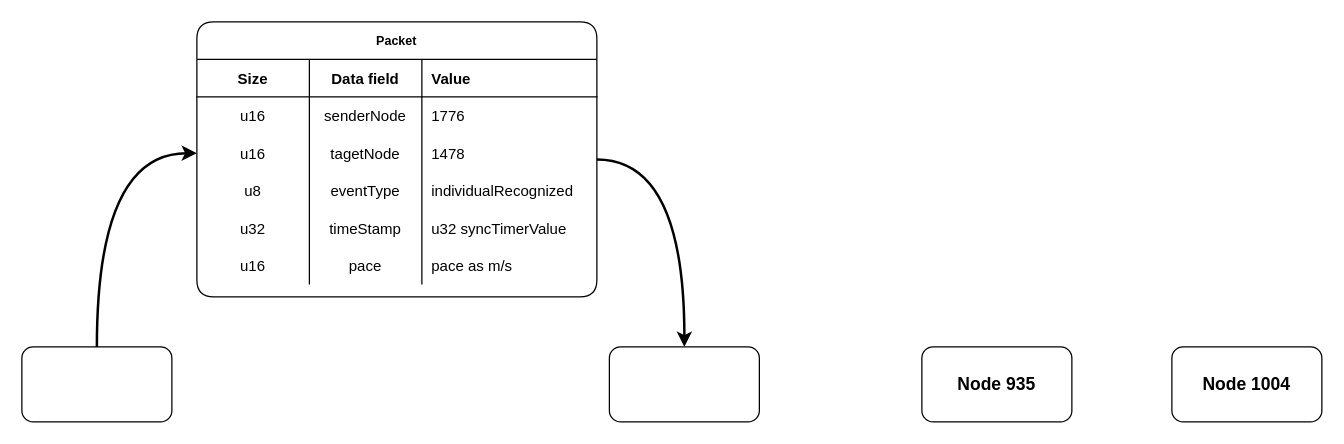
This 1344x444 diagram has some shape labels left out. Each missing label, with the centre of its shape:
"Node 1478" goes at (683,384).
"Node 1776" goes at (96,384).
